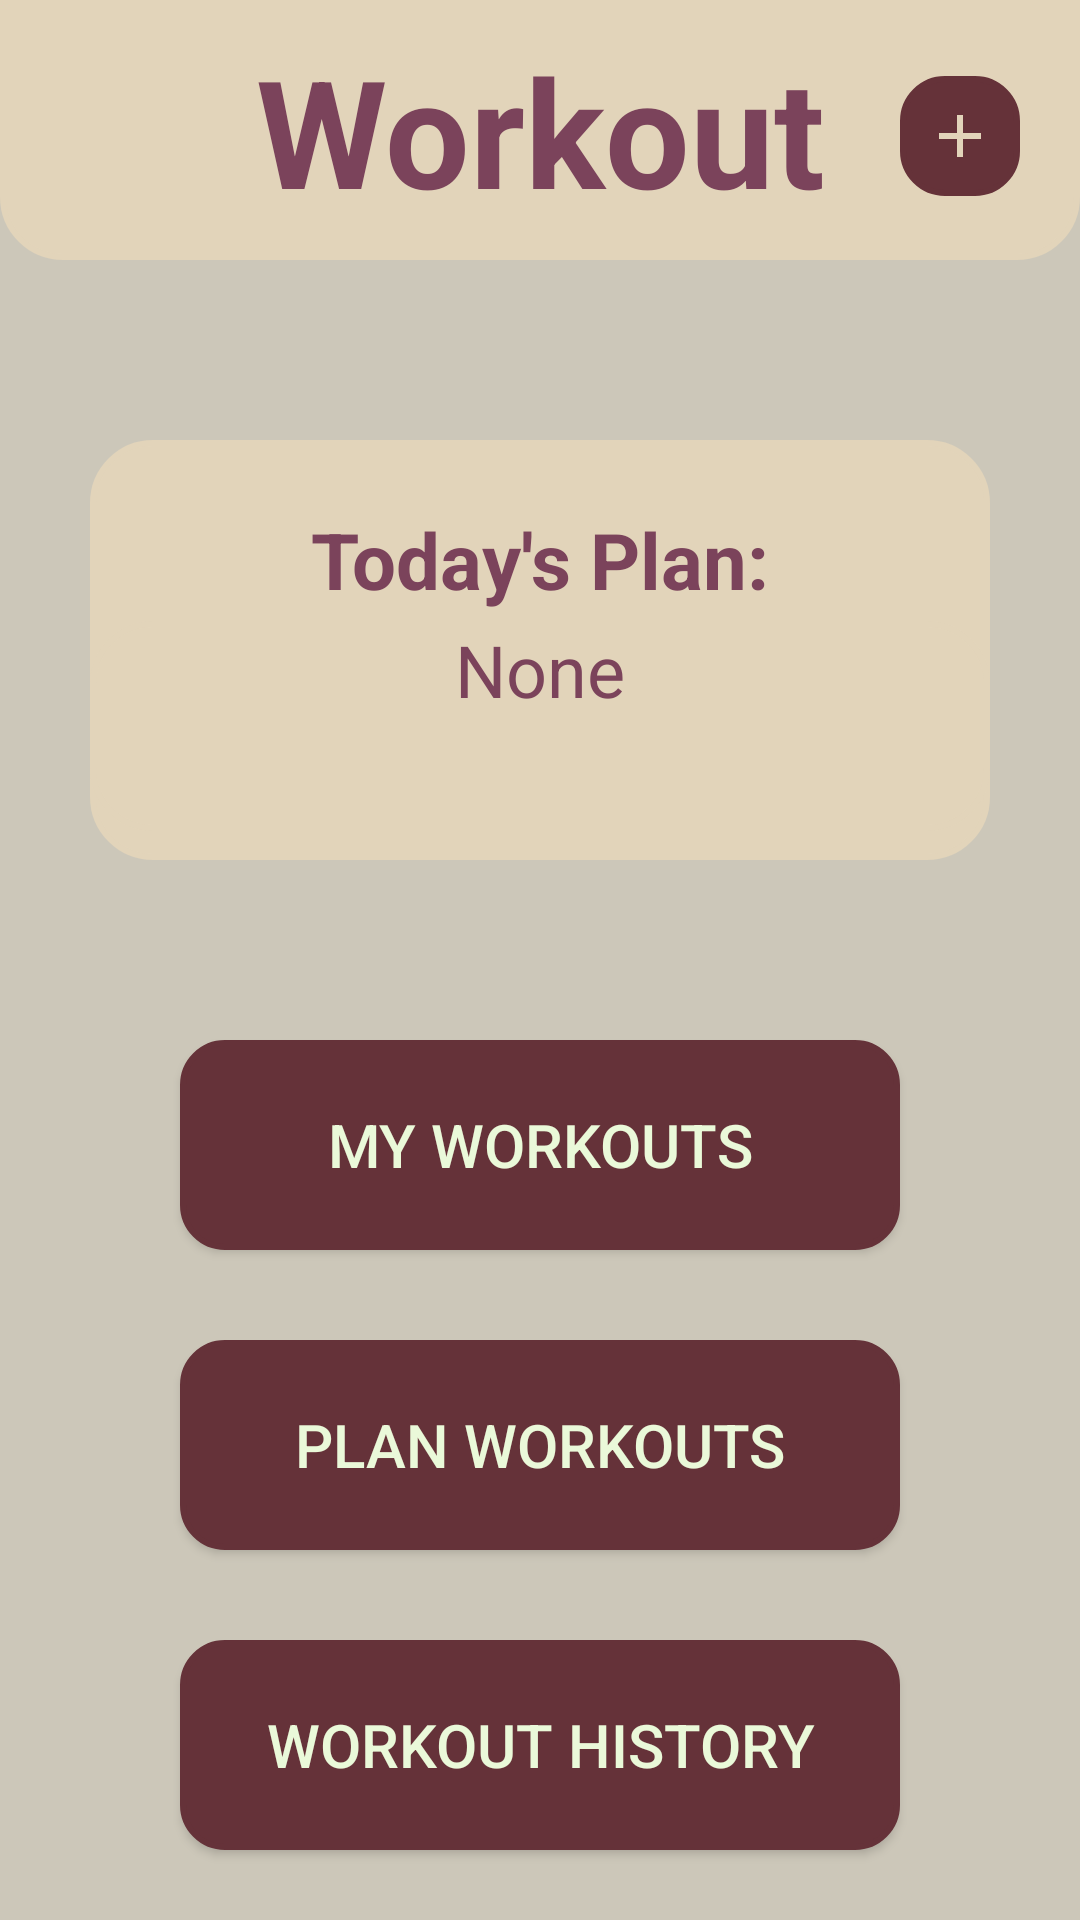

Icons on this 1080x1920 Android screen, each with the point to tap as [x,y]:
add: [960,136]
